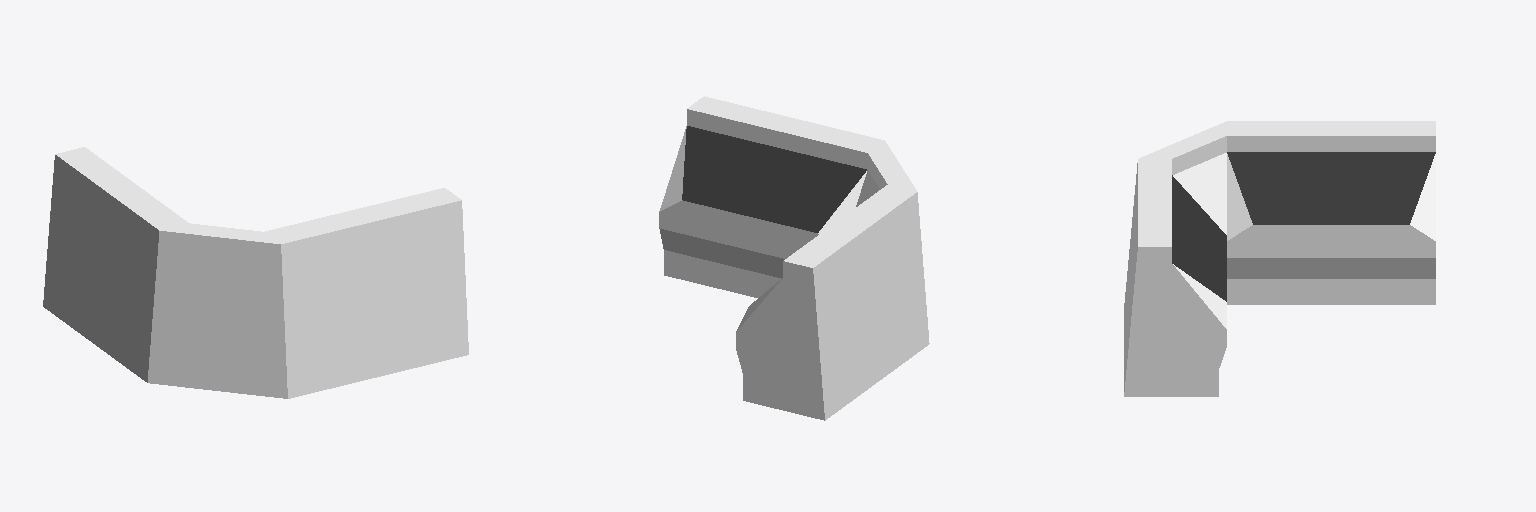
File: consoleCorner.obj
The picture shows the model from 3 angles: view 1: azimuth 30°, elevation 25°; view 2: azimuth 150°, elevation 25°; view 3: azimuth 270°, elevation 25°; orthographic projection.
Visible parts, largest first — view 1: consoleCorner; view 2: consoleCorner; view 3: consoleCorner.
Boxes of the visible parts, <box> form: consoleCorner: <box>43,147,468,398</box>; consoleCorner: <box>659,96,929,420</box>; consoleCorner: <box>1124,121,1435,396</box>.
Bounding box in the file's own units: 6.8 × 3.6 × 6.8.